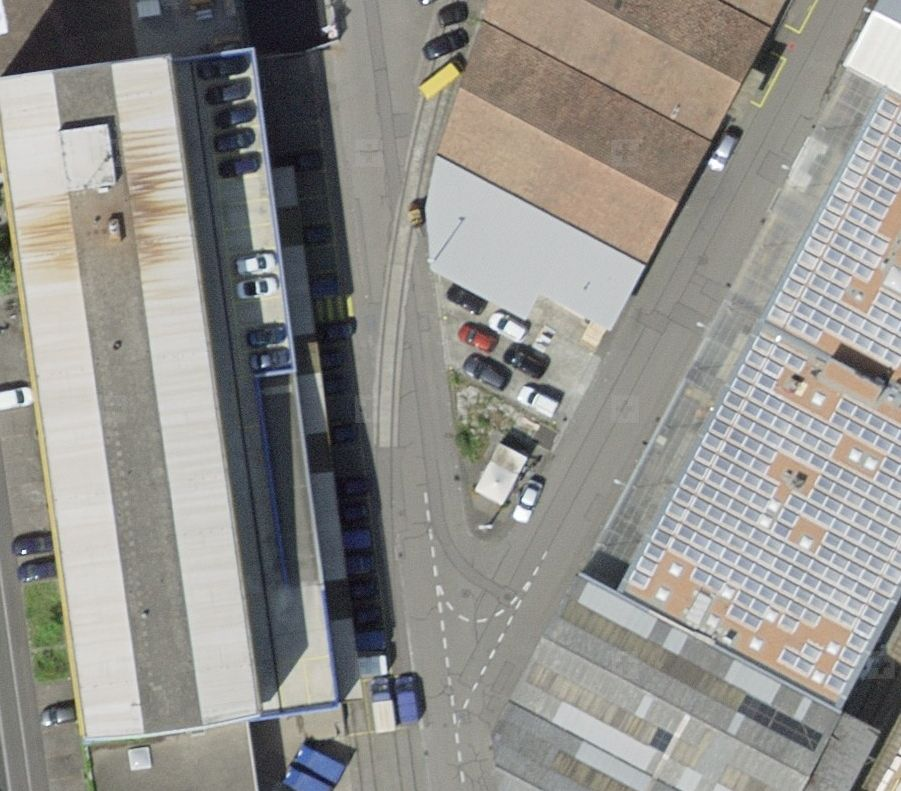solar: (625, 97, 901, 696)
